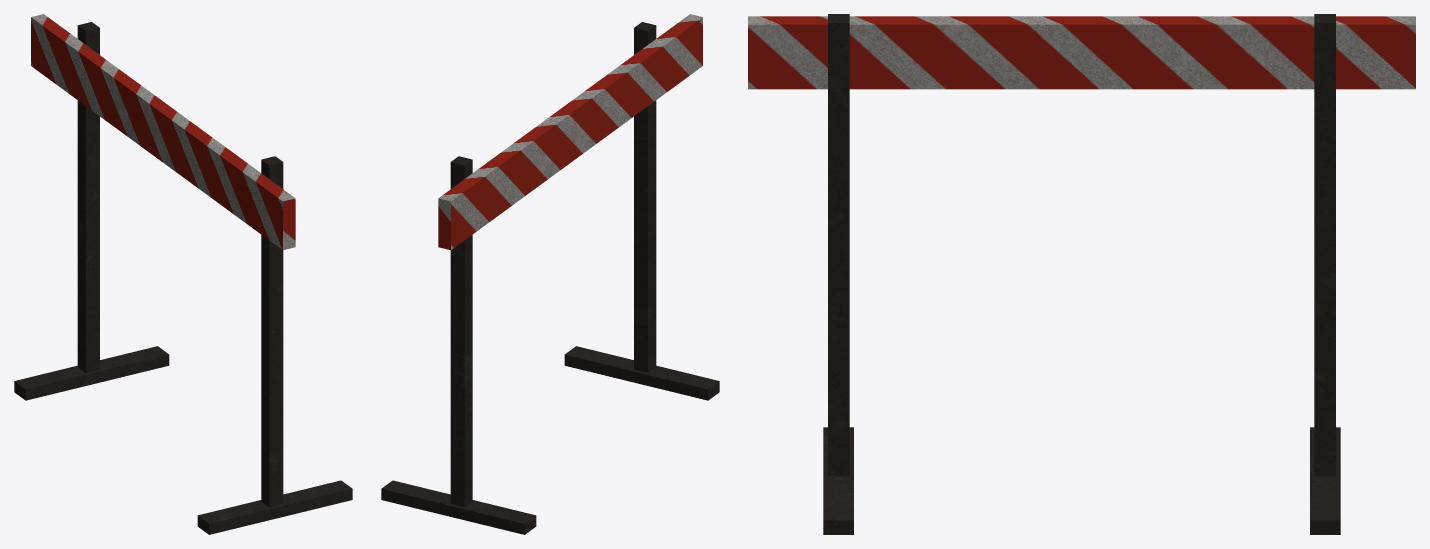
The model's file is road_block.fbx.
3 renders of one model, left to right at view 1: azimuth 30°, elevation 25°; view 2: azimuth 150°, elevation 25°; view 3: azimuth 270°, elevation 25°, orthographic. The views are drawn at different scales.
Visible parts, largest first — view 1: pCube6; view 2: pCube6; view 3: pCube6.
Part boxes in pixels (<box>): pCube6: <box>14,14,352,534</box>; pCube6: <box>381,14,719,534</box>; pCube6: <box>748,14,1415,534</box>.
Size of the model in its own units: 30.76 by 72.3 by 93.49.
Materials: 1 (1 with a texture image).
